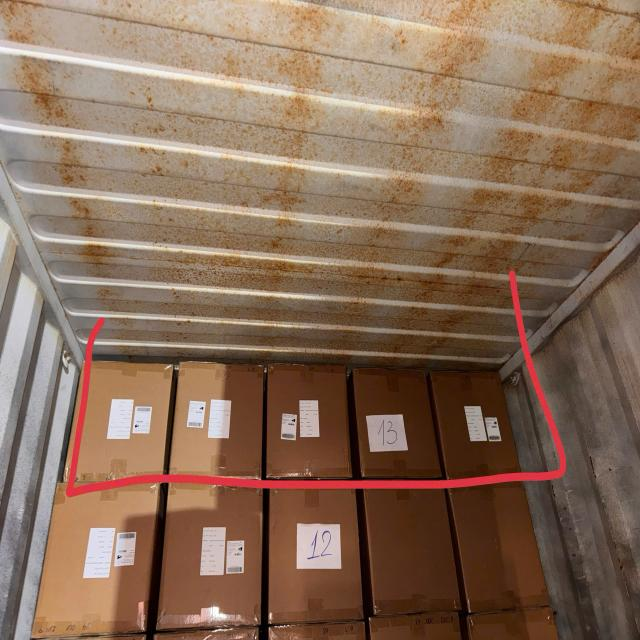Carton: (70, 362, 172, 480), (174, 362, 264, 478), (352, 369, 439, 481), (264, 366, 349, 480), (434, 373, 524, 480)
